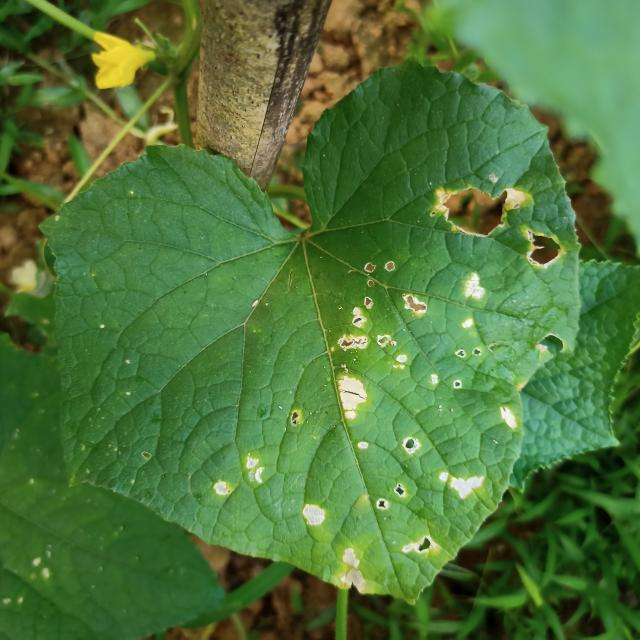disease_cucumber: (322, 258, 432, 373), (422, 178, 532, 238), (324, 364, 376, 426), (204, 453, 266, 499), (427, 466, 489, 507), (518, 228, 567, 274), (336, 541, 371, 592), (369, 479, 408, 514), (460, 266, 491, 306), (486, 405, 521, 436), (404, 531, 441, 559), (299, 501, 329, 528), (401, 434, 426, 455)
